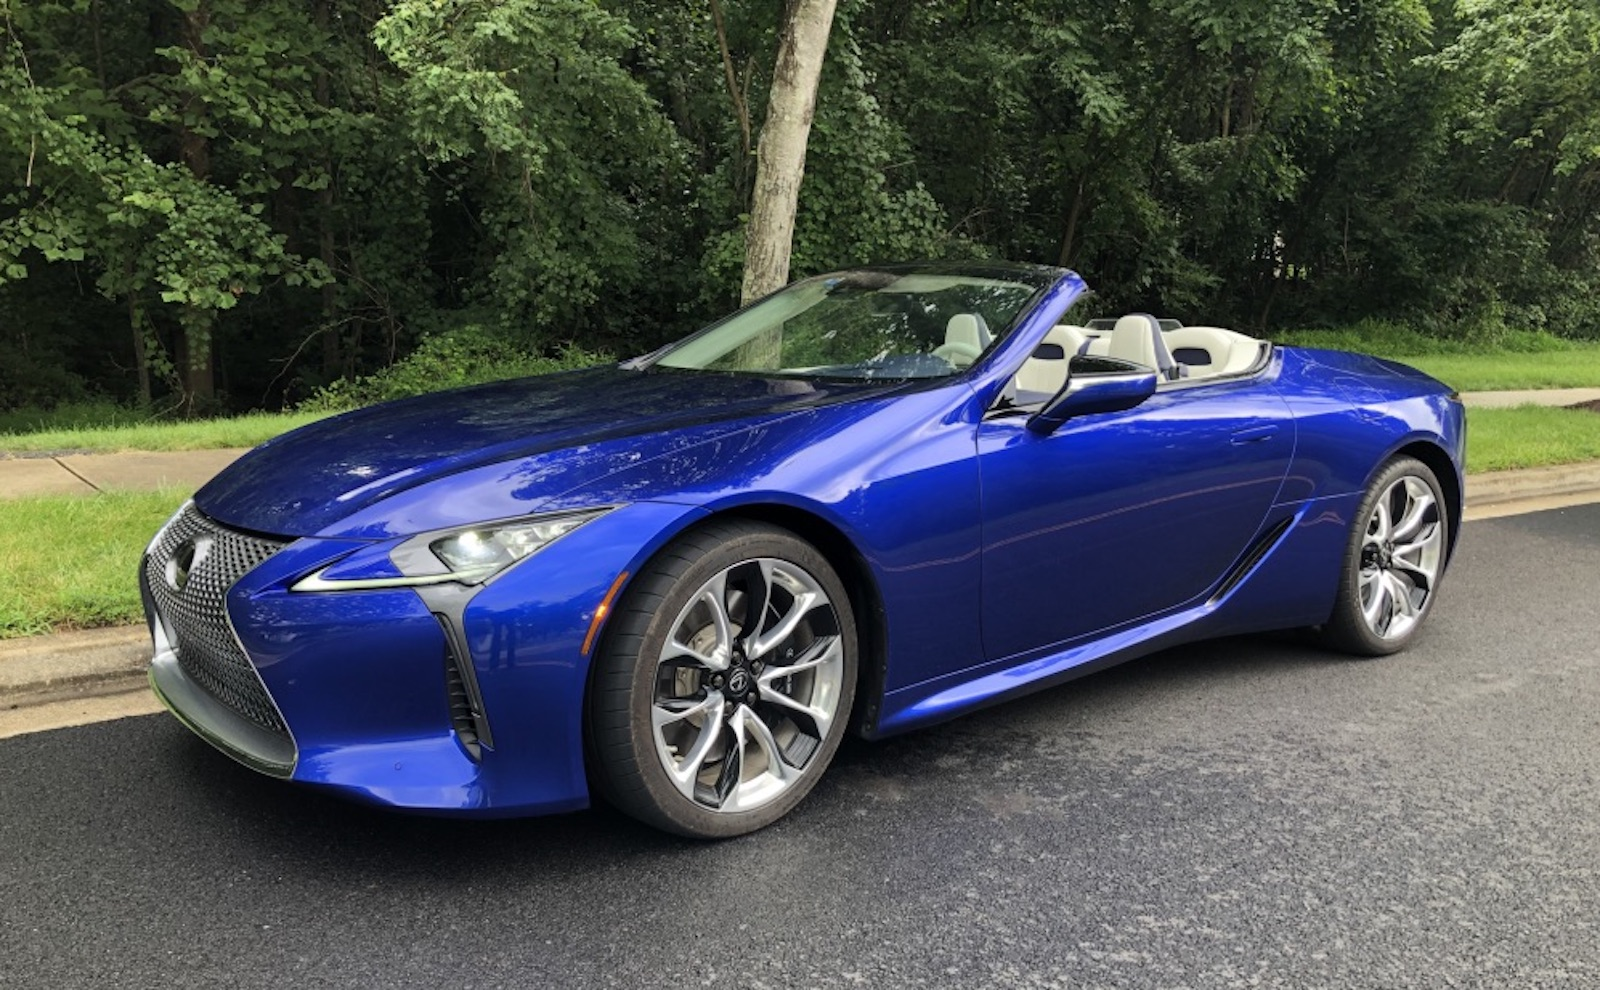car: (141, 258, 1467, 840)
